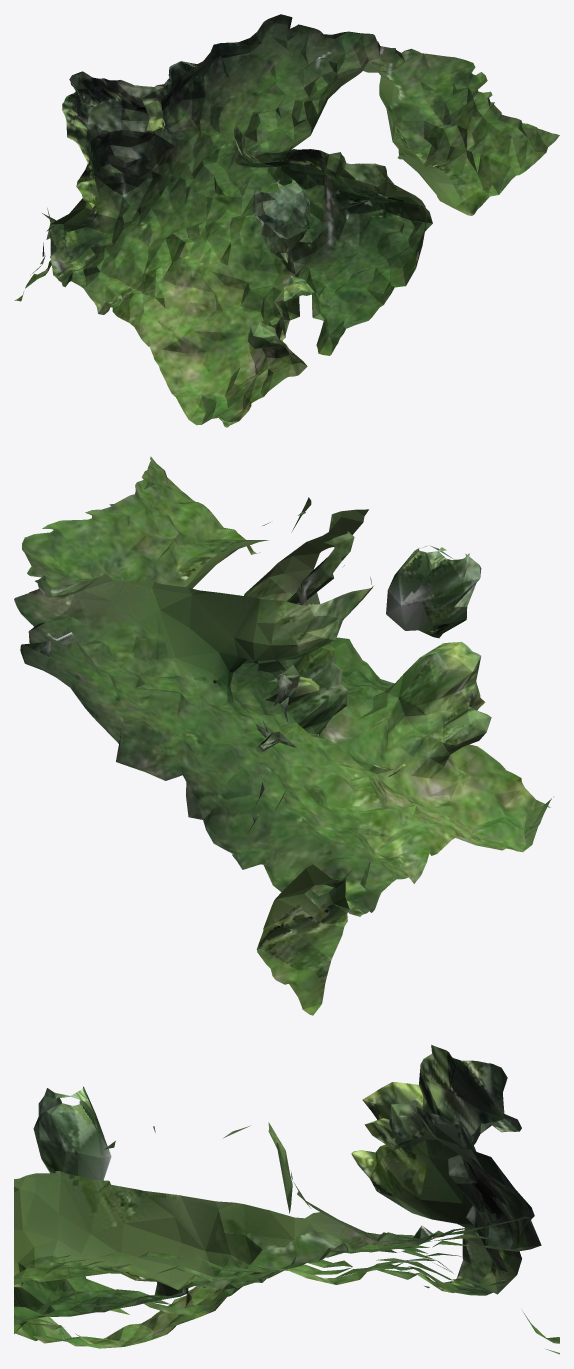
3 views of the same model, one above another, from view 1: azimuth 30°, elevation 25°; view 2: azimuth 150°, elevation 25°; view 3: azimuth 270°, elevation 25° (orthographic). The views are drawn at different scales.
Size of the model in its own units: 25.67 by 16.29 by 26.11.
4 materials, 4 textured.
